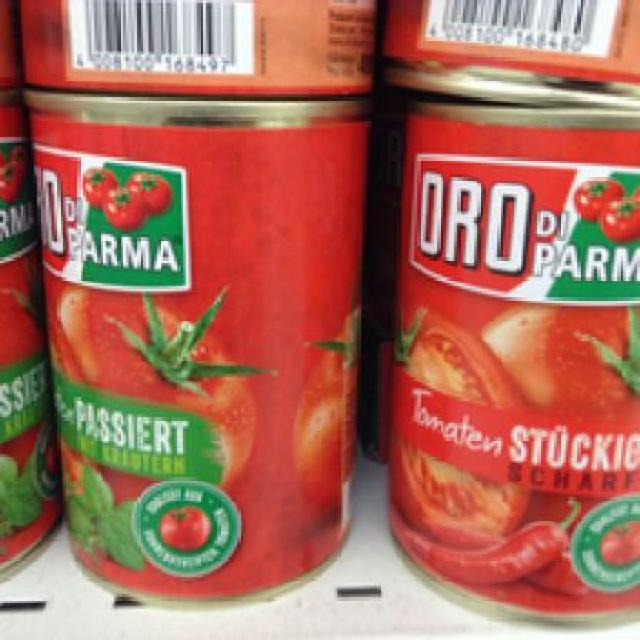Tomato Sauce: (20, 83, 369, 606), (386, 89, 637, 626)
